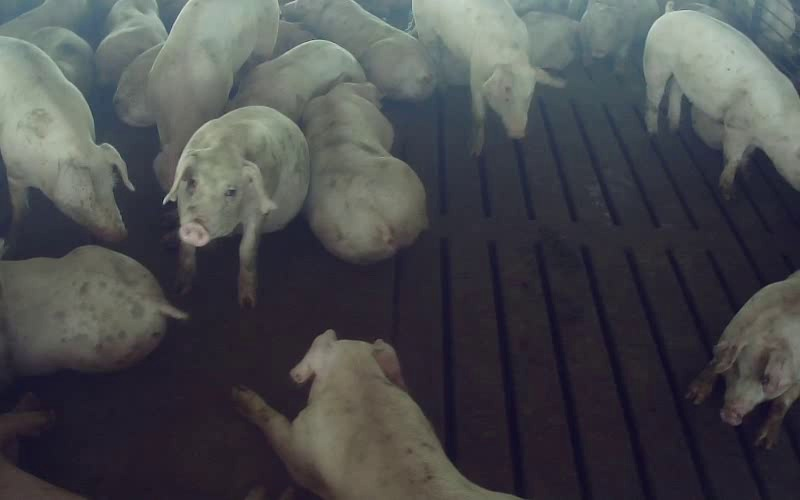pig: (233, 330, 517, 499), (164, 106, 308, 305), (643, 10, 799, 191), (0, 247, 186, 383), (413, 0, 564, 154), (303, 82, 426, 263), (686, 270, 799, 448), (282, 0, 433, 100), (230, 40, 365, 123), (581, 0, 659, 75)
